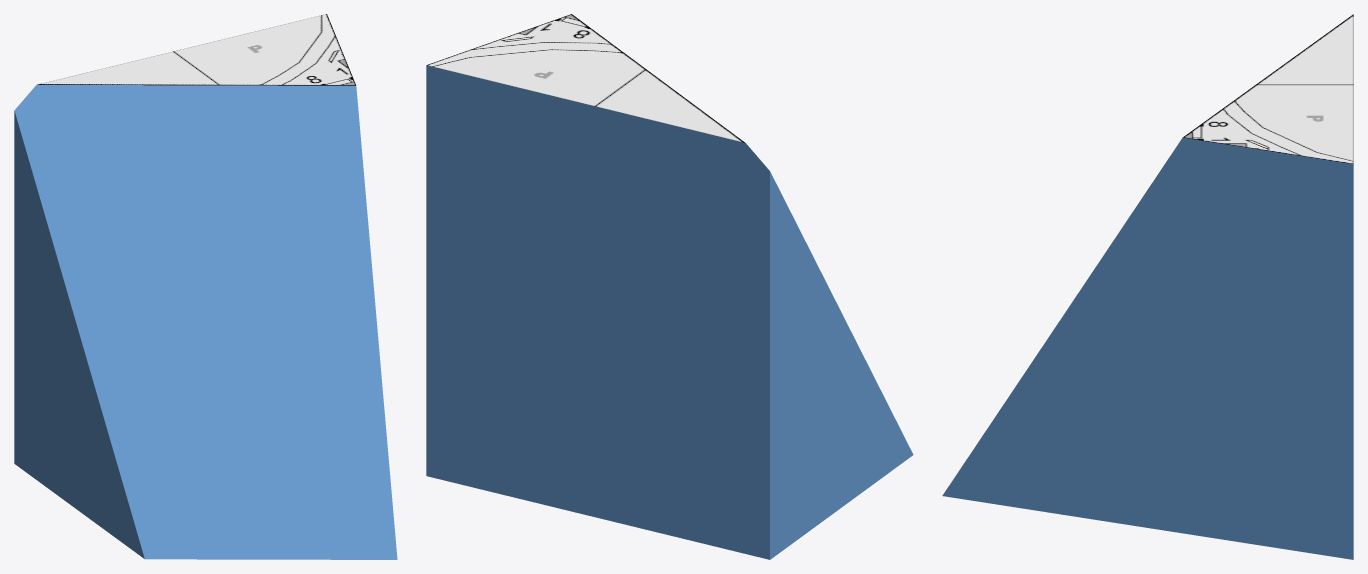
File: Left_B2.glb
The picture shows the model from 3 angles, left to right: view 1: azimuth 30°, elevation 25°; view 2: azimuth 150°, elevation 25°; view 3: azimuth 270°, elevation 25°; orthographic projection. The views are drawn at different scales.
Visible parts, largest first — view 1: Left_B2; view 2: Left_B2; view 3: Left_B2.
Part boxes in pixels (<box>): Left_B2: <box>14,14,397,559</box>; Left_B2: <box>426,14,913,559</box>; Left_B2: <box>942,14,1353,559</box>.
Bounding box in the file's own units: 3.07 × 3.51 × 3.31.
Materials: 2 (1 with a texture image).
